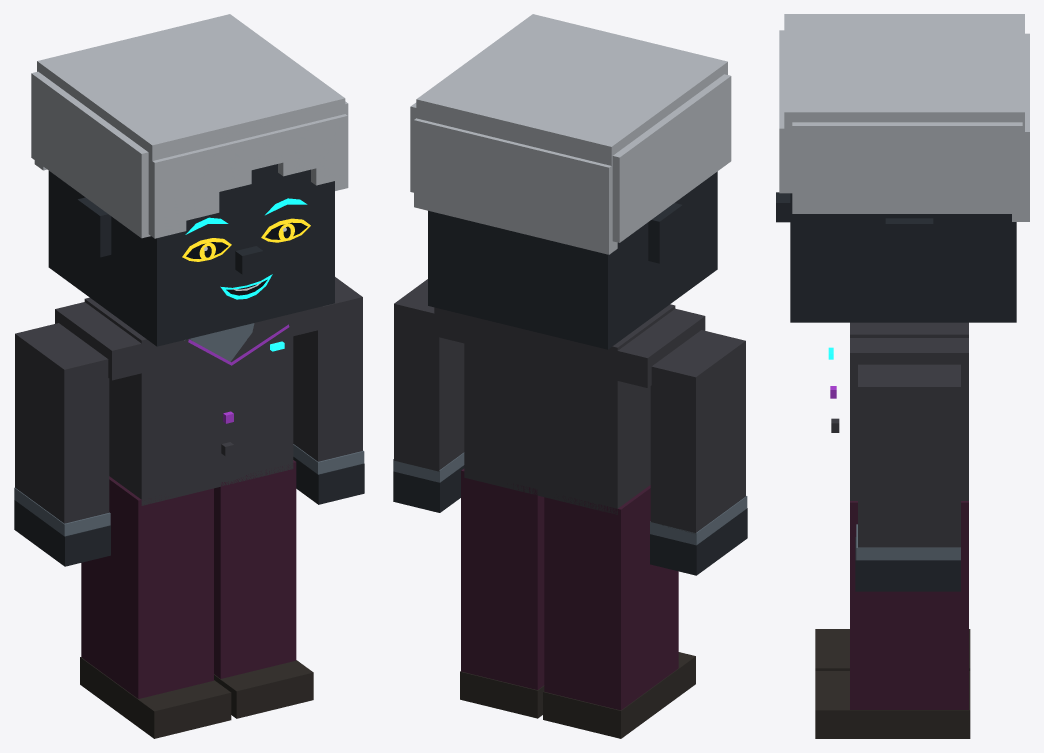
The model's file is sample_0.glb.
3 views of the same model, side by side, from view 1: azimuth 30°, elevation 25°; view 2: azimuth 150°, elevation 25°; view 3: azimuth 270°, elevation 25° (orthographic). The views are drawn at different scales.
Parts seen in each view (by area): view 1: char_hair_visual, char_torso_visual, char_head_visual, char_leg_negx_visual, char_arm_negx_visual, char_leg_posx_visual, char_arm_posx_visual, char_hand_negx_visual, char_hand_posx_visual, char_eye_posx_visual, char_eye_negx_visual; view 2: char_hair_visual, char_torso_visual, char_head_visual, char_leg_negx_visual, char_arm_negx_visual, char_leg_posx_visual, char_arm_posx_visual, char_hand_negx_visual, char_hand_posx_visual; view 3: char_hair_visual, char_head_visual, char_arm_posx_visual, char_leg_posx_visual, char_torso_visual, char_hand_posx_visual, char_leg_negx_visual.
Part boxes in pixels (bbox=[...]): char_hair_visual: bbox=[31, 14, 348, 238]; char_torso_visual: bbox=[55, 297, 322, 576]; char_head_visual: bbox=[48, 164, 334, 346]; char_leg_negx_visual: bbox=[80, 556, 231, 738]; char_arm_negx_visual: bbox=[14, 323, 110, 536]; char_leg_posx_visual: bbox=[214, 538, 313, 718]; char_arm_posx_visual: bbox=[293, 277, 364, 474]; char_hand_negx_visual: bbox=[14, 500, 110, 566]; char_hand_posx_visual: bbox=[293, 457, 364, 504]; char_eye_posx_visual: bbox=[261, 218, 310, 242]; char_eye_negx_visual: bbox=[182, 238, 231, 261]; char_hair_visual: bbox=[410, 14, 731, 254]; char_torso_visual: bbox=[434, 304, 705, 586]; char_head_visual: bbox=[428, 171, 717, 349]; char_leg_negx_visual: bbox=[543, 564, 695, 738]; char_arm_negx_visual: bbox=[650, 330, 747, 545]; char_leg_posx_visual: bbox=[460, 547, 544, 718]; char_arm_posx_visual: bbox=[393, 279, 464, 482]; char_hand_negx_visual: bbox=[650, 508, 747, 575]; char_hand_posx_visual: bbox=[393, 465, 464, 512]; char_hair_visual: bbox=[779, 14, 1029, 221]; char_head_visual: bbox=[776, 192, 1016, 322]; char_arm_posx_visual: bbox=[856, 364, 960, 560]; char_leg_posx_visual: bbox=[815, 581, 970, 738]; char_torso_visual: bbox=[830, 322, 968, 587]; char_hand_posx_visual: bbox=[855, 537, 960, 591]; char_leg_negx_visual: bbox=[815, 629, 970, 670].
Bounding box in the file's own units: 0.91 × 1.77 × 0.6395.
